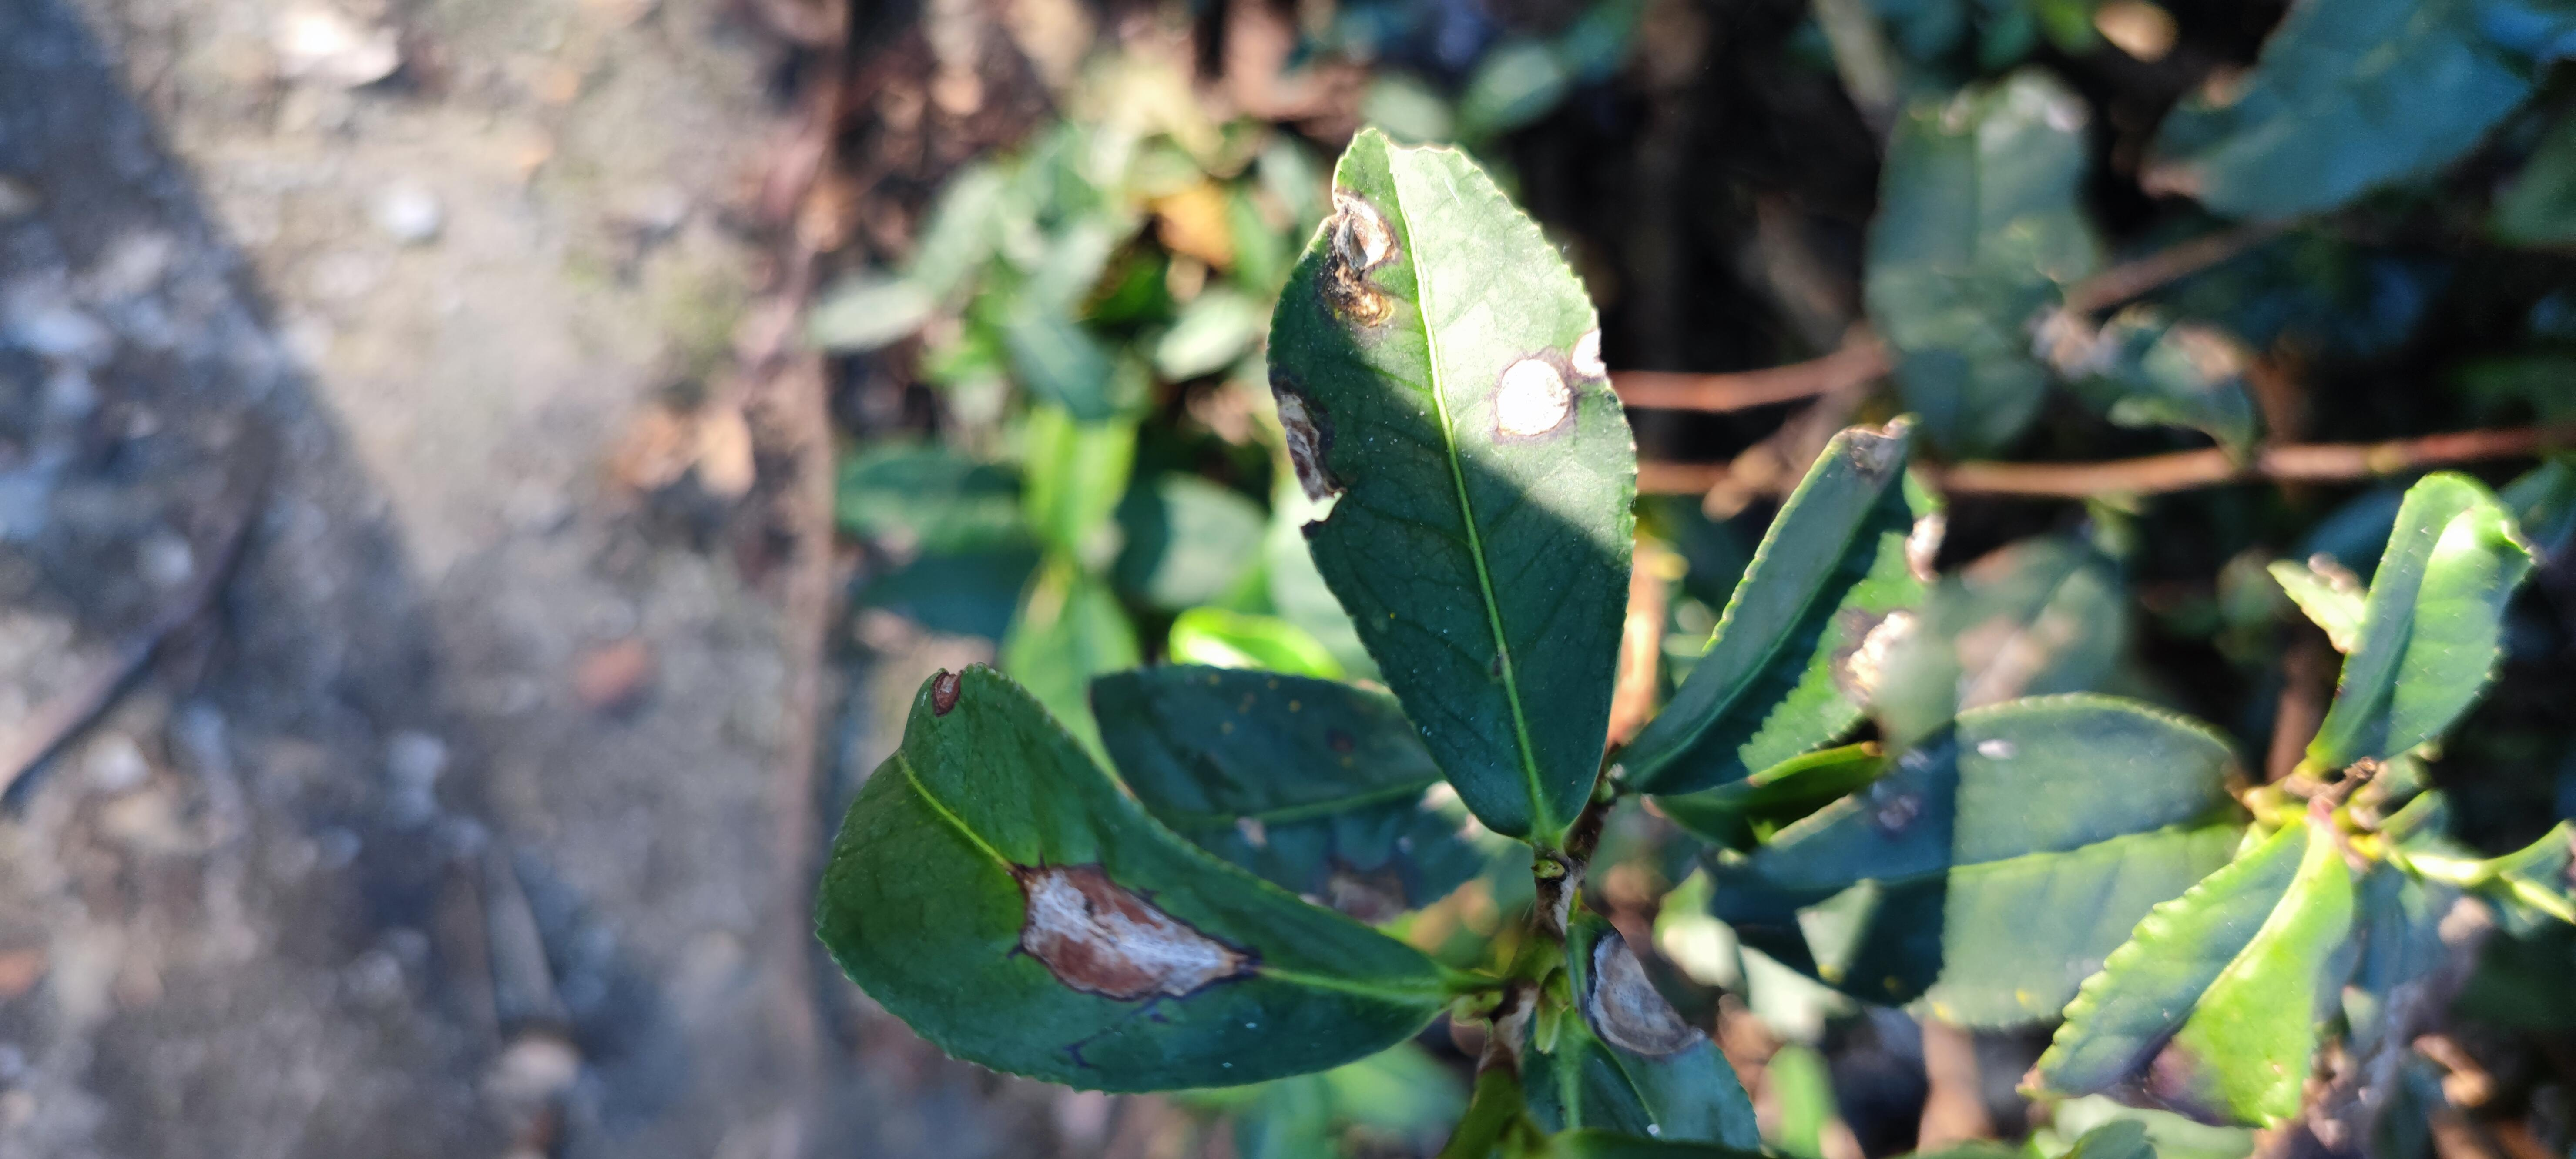tanju_high: (812, 662, 1459, 1097), (1263, 120, 1644, 854), (1625, 414, 1952, 799), (1559, 903, 1761, 1143)
